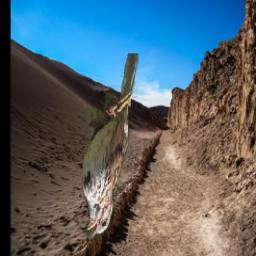Sparrow: (81, 54, 138, 241)
